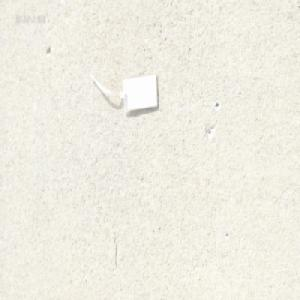LuggageTag: (88, 69, 159, 115)
